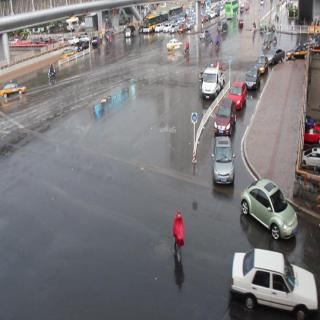Car: (229, 242, 320, 319), (239, 173, 299, 241), (212, 135, 238, 186), (197, 61, 225, 100), (214, 95, 236, 138), (1, 74, 26, 100), (228, 79, 247, 109), (286, 41, 308, 60), (245, 65, 261, 91), (265, 46, 286, 64), (254, 53, 269, 73), (61, 46, 78, 61), (167, 37, 182, 51), (217, 18, 229, 32), (77, 41, 89, 53), (199, 29, 211, 40), (124, 26, 132, 39)
